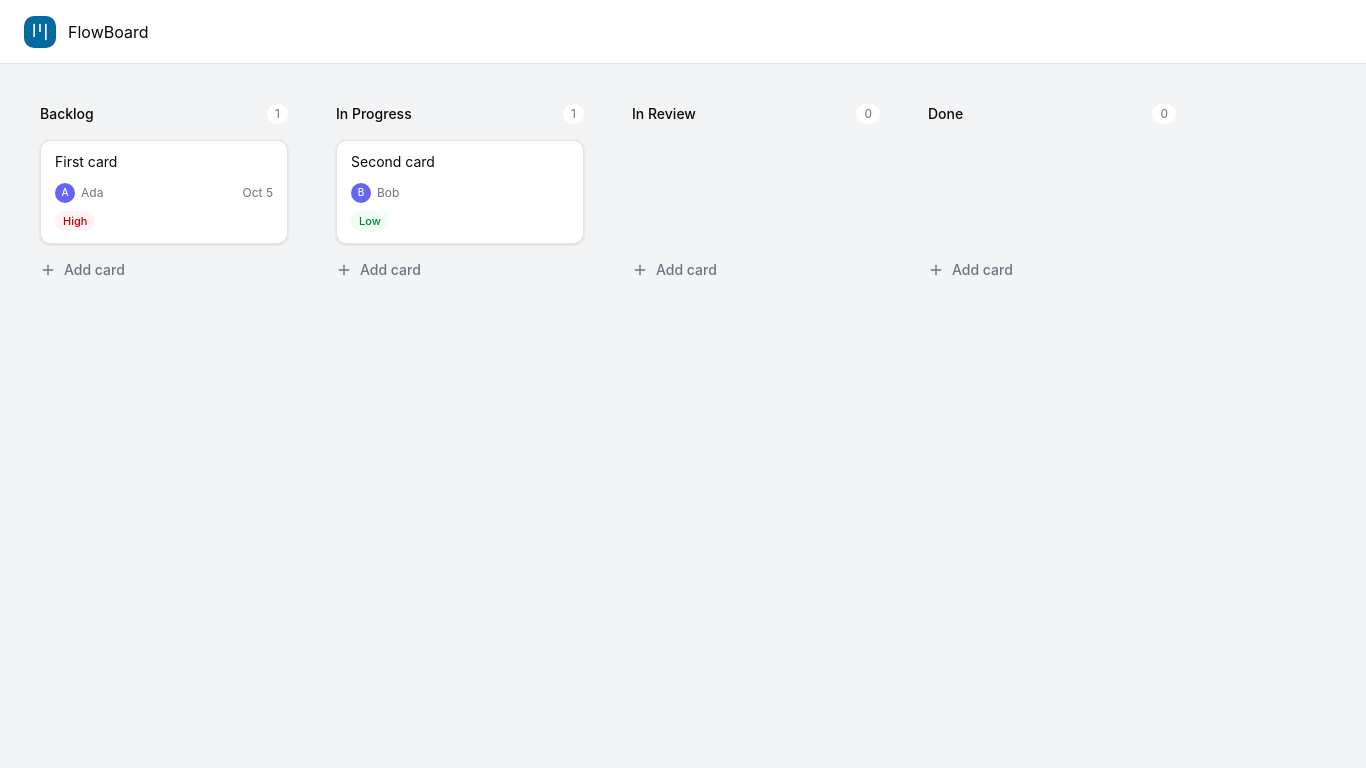
Test: App - save card (regression: rollback on failure) › keeps the update when updateCard succeeds
This screenshot has width=1366, height=768.
Click the text "First card" at (86, 162), box [55,153,118,170]
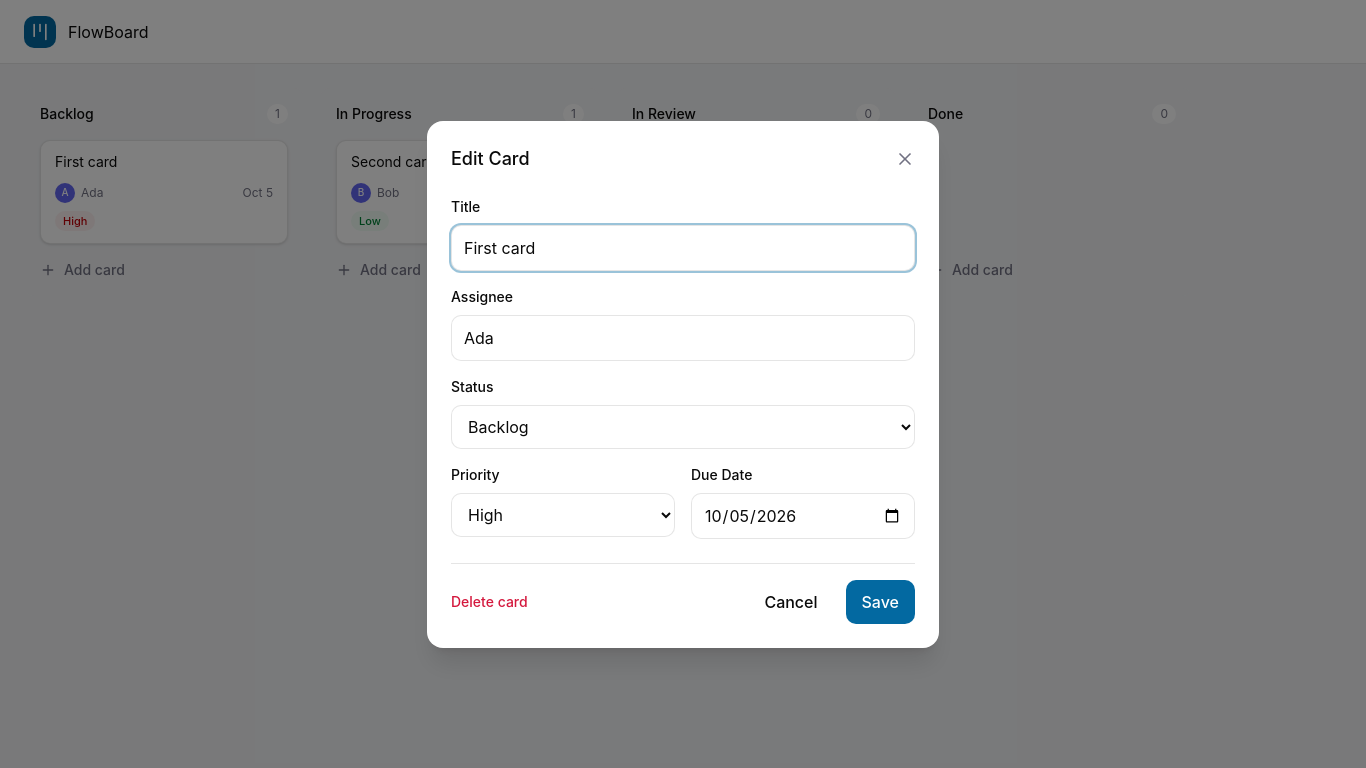
Replace the text in the field with placeholder "Enter card title..." with "Updated title" at (683, 248), box [451,224,915,270]
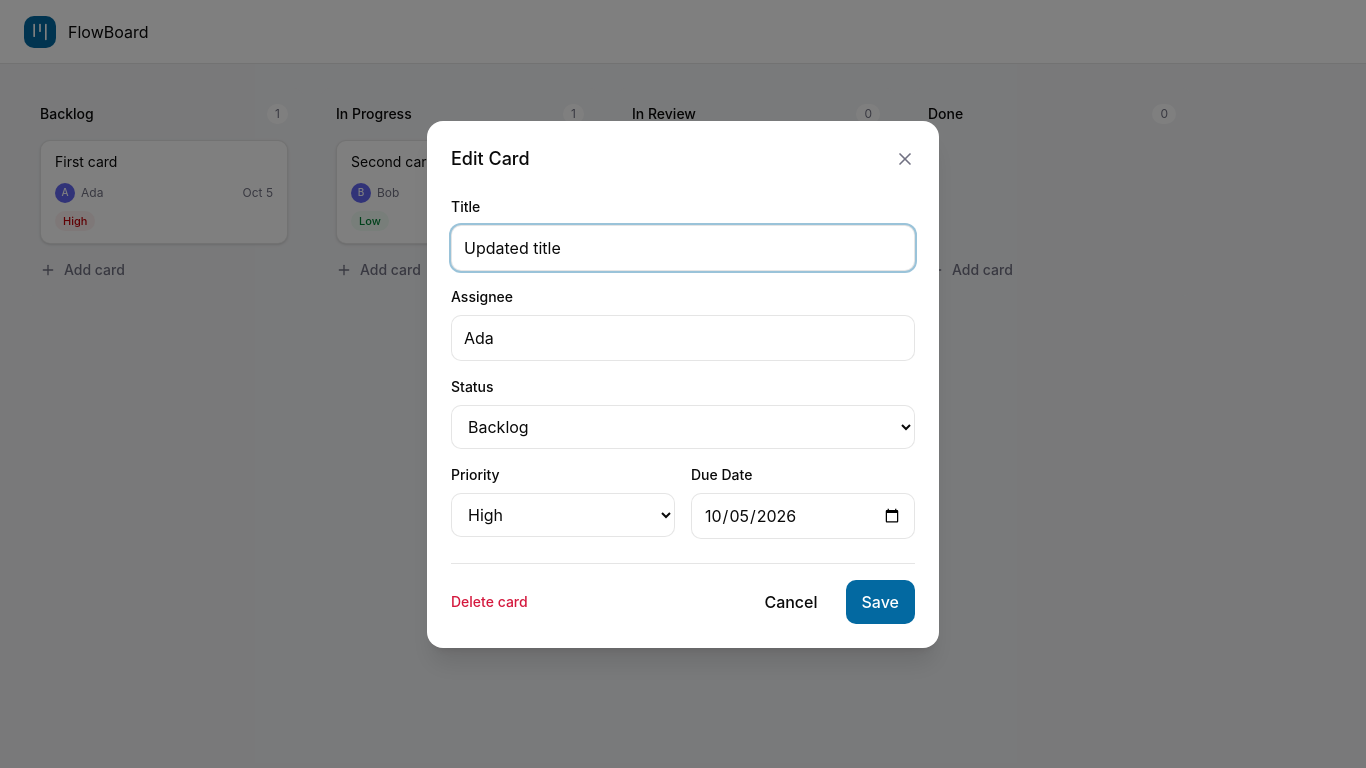
Click the button "Save" at (880, 602), box [846,580,915,624]
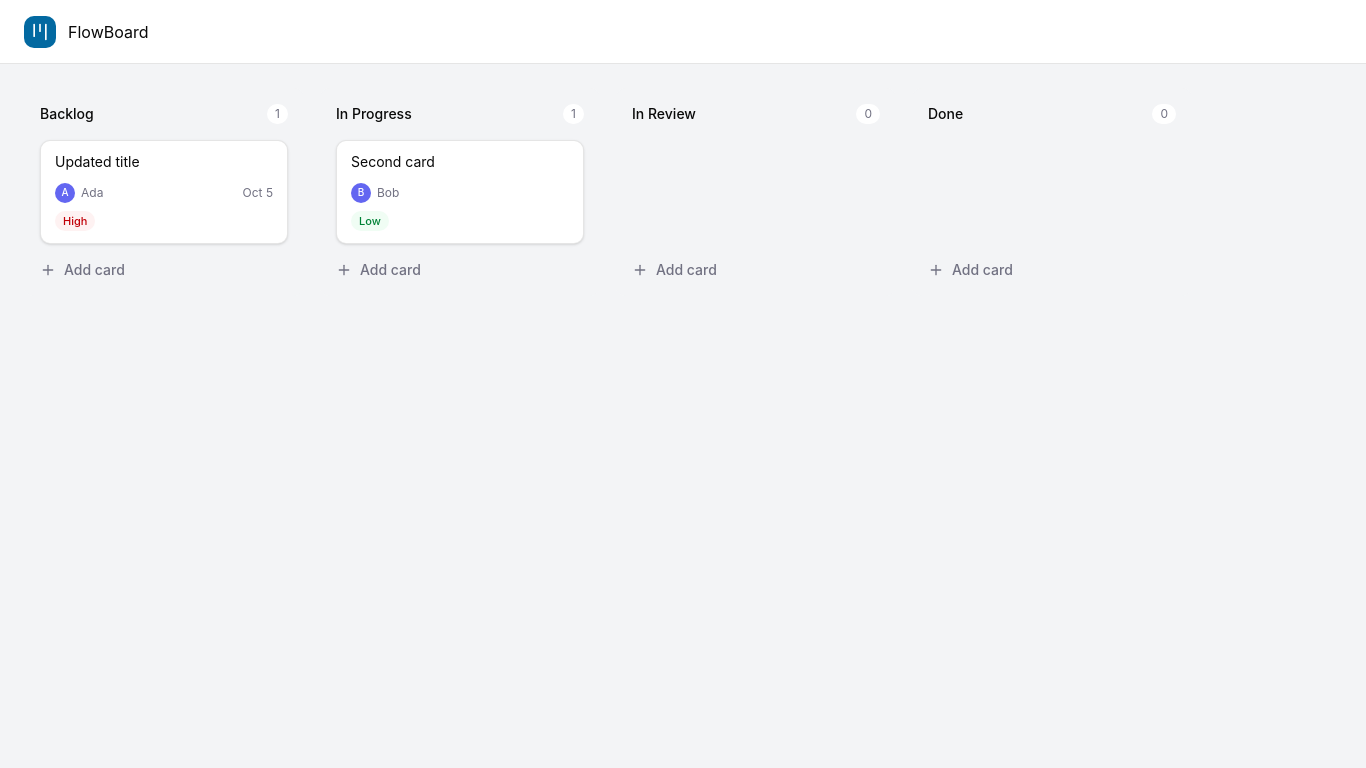
Expected: the text "Updated title" is shown, [55,153,140,170]
